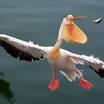pelican: (1, 15, 104, 92)
